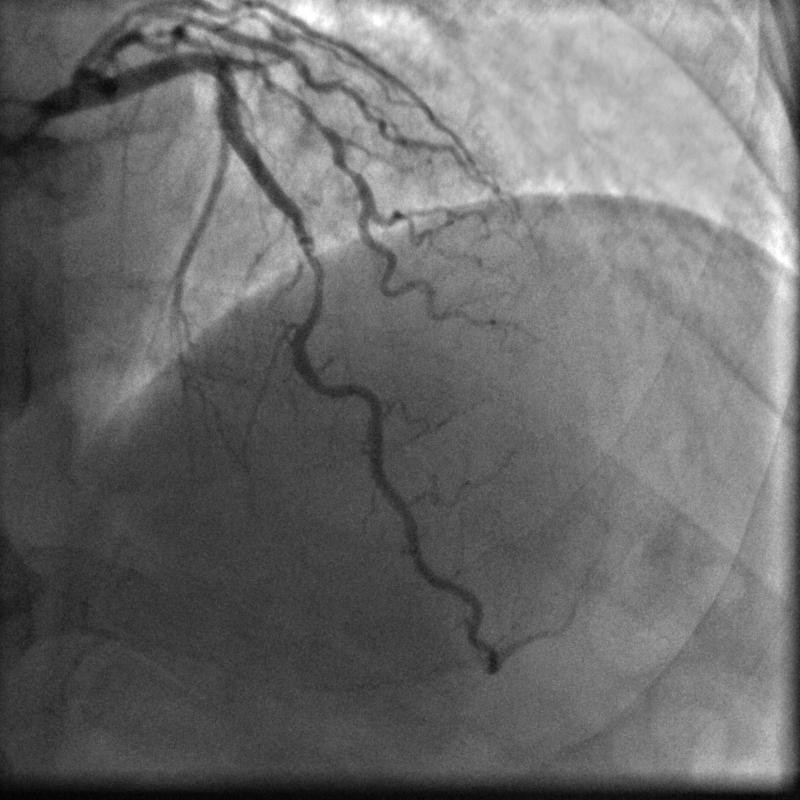Stenosis: (285, 217, 322, 323)
